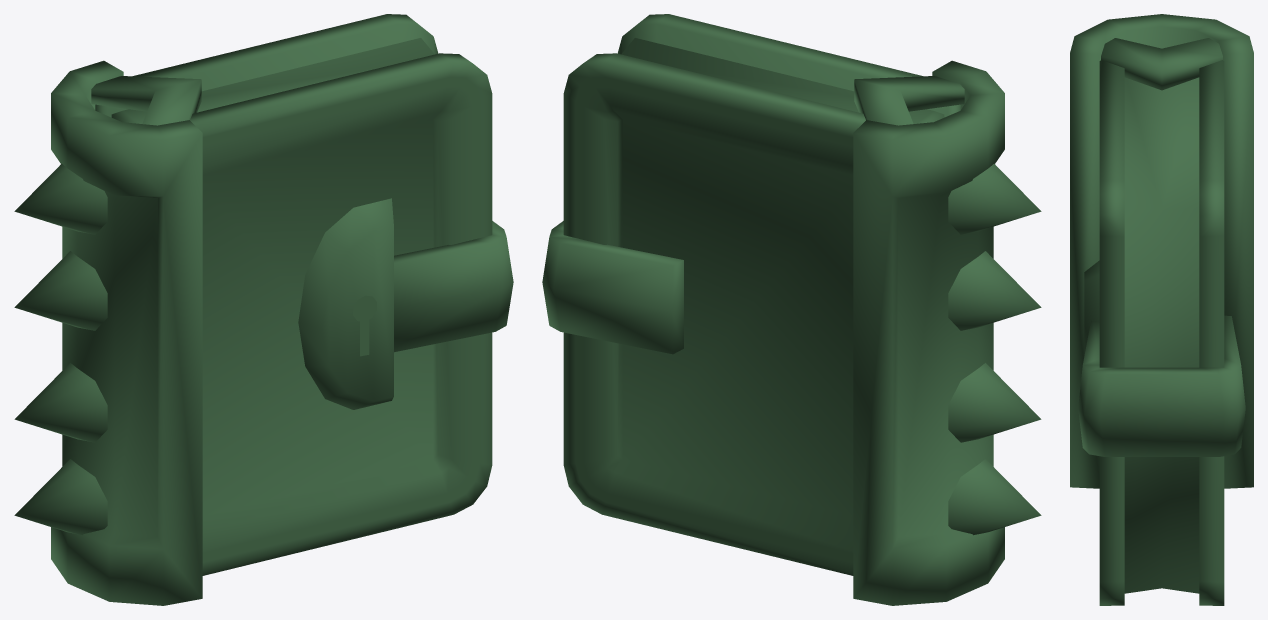
The model's file is SM_2hand_book_Tier2.fbx.
3 renders of one model, left to right at view 1: azimuth 30°, elevation 25°; view 2: azimuth 150°, elevation 25°; view 3: azimuth 270°, elevation 25°, orthographic. The views are drawn at different scales.
Parts seen in each view (by area): view 1: Weapon_Paladin_04; view 2: Weapon_Paladin_04; view 3: Weapon_Paladin_04.
Part boxes in pixels (<box>): Weapon_Paladin_04: <box>14,14,513,605</box>; Weapon_Paladin_04: <box>542,14,1041,605</box>; Weapon_Paladin_04: <box>1070,14,1253,605</box>.
Size of the model in its own units: 84.14 by 82.76 by 31.
Materials: 1 (1 with a texture image).
